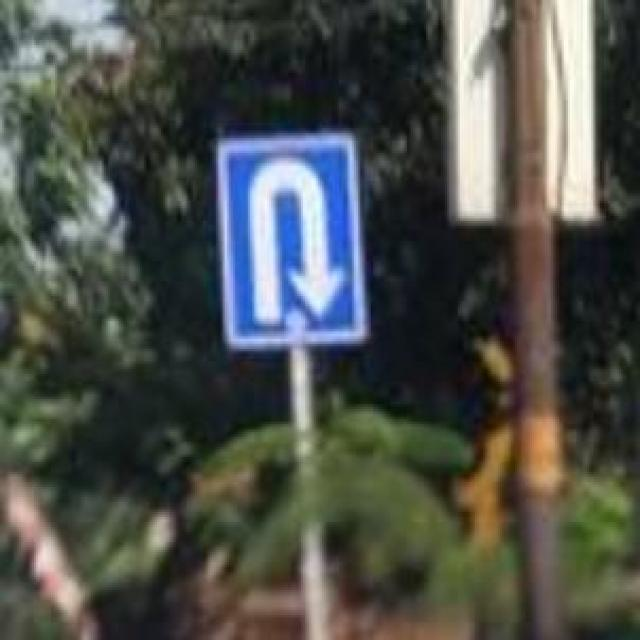traffic sign: (214, 136, 368, 347)
